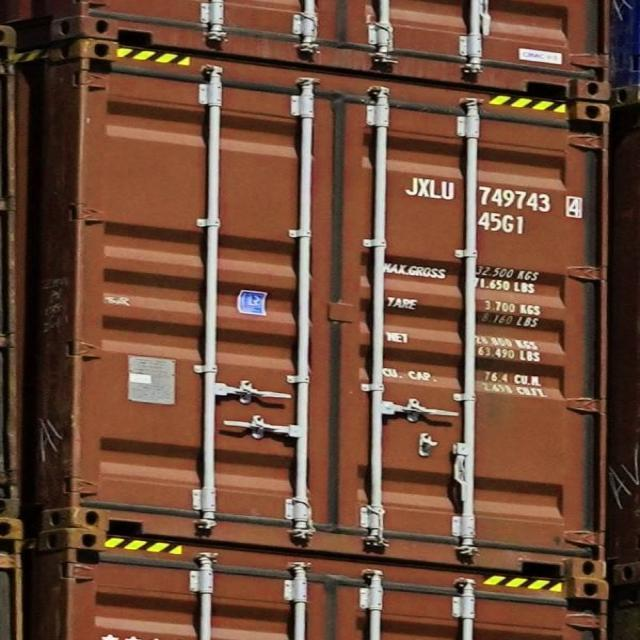ISO: (480, 208, 530, 236)
container_number: (403, 173, 592, 216)
